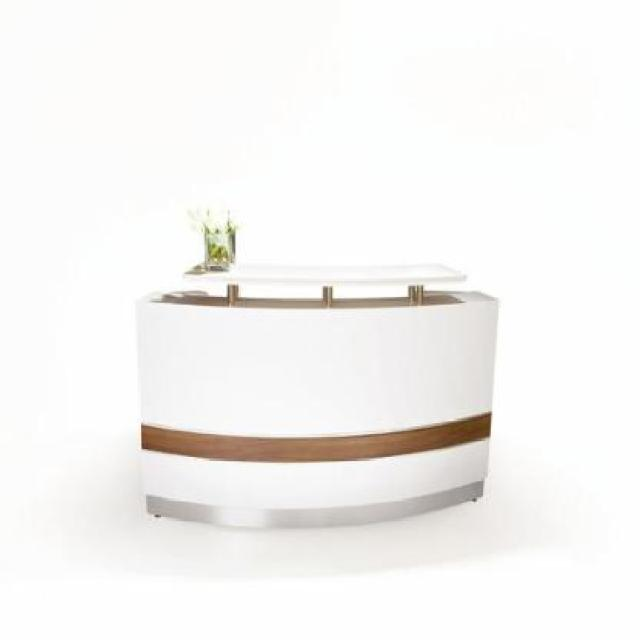frontdesk: (131, 254, 502, 541)
